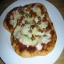pizza: (6, 4, 57, 55)
